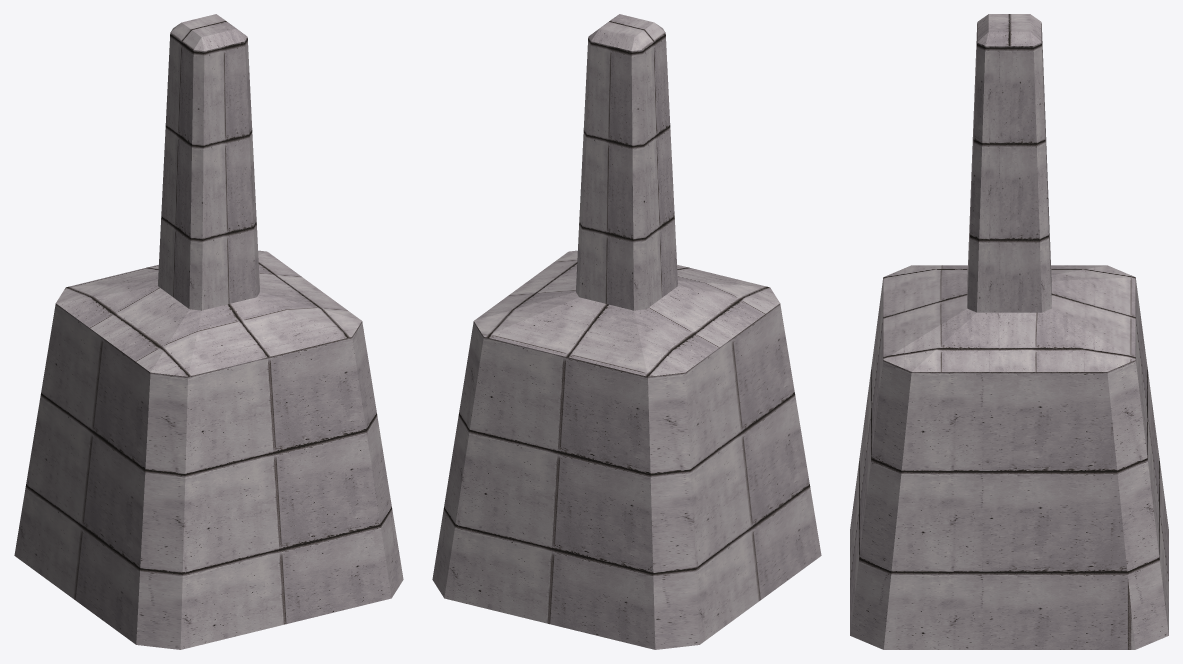
File: Assetsdecoracion1.fbx
3 renders of one model, left to right at view 1: azimuth 30°, elevation 25°; view 2: azimuth 150°, elevation 25°; view 3: azimuth 270°, elevation 25°, orthographic. The views are drawn at different scales.
Visible parts, largest first — view 1: Cube; view 2: Cube; view 3: Cube.
Boxes of the visible parts, x1,y1,x2,y2 form: Cube: (14, 14, 403, 649); Cube: (432, 14, 821, 649); Cube: (850, 14, 1168, 649).
Size of the model in its own units: 1953 by 3800 by 1953.
